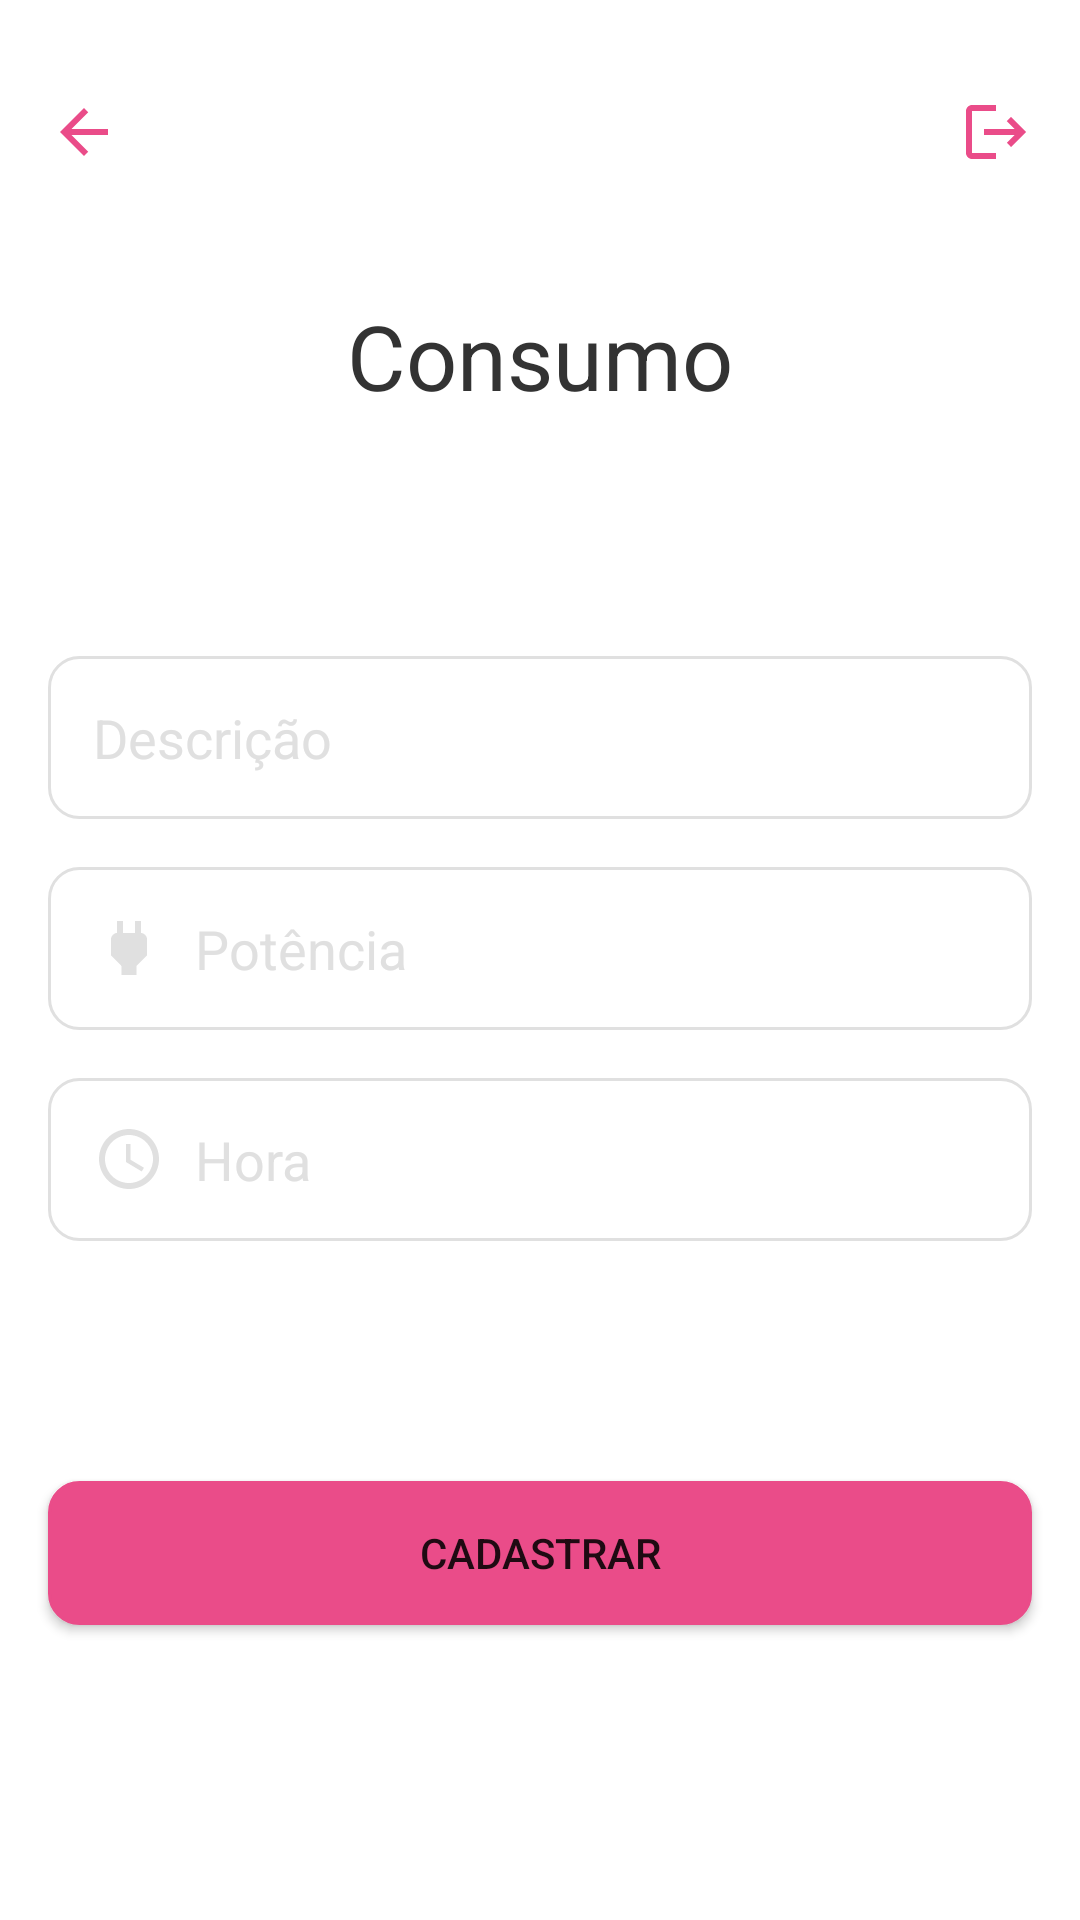

Where to tap for icons on this 1080x1920 app screen, as (x=x, y=y):
arrow: (x=84, y=132)
